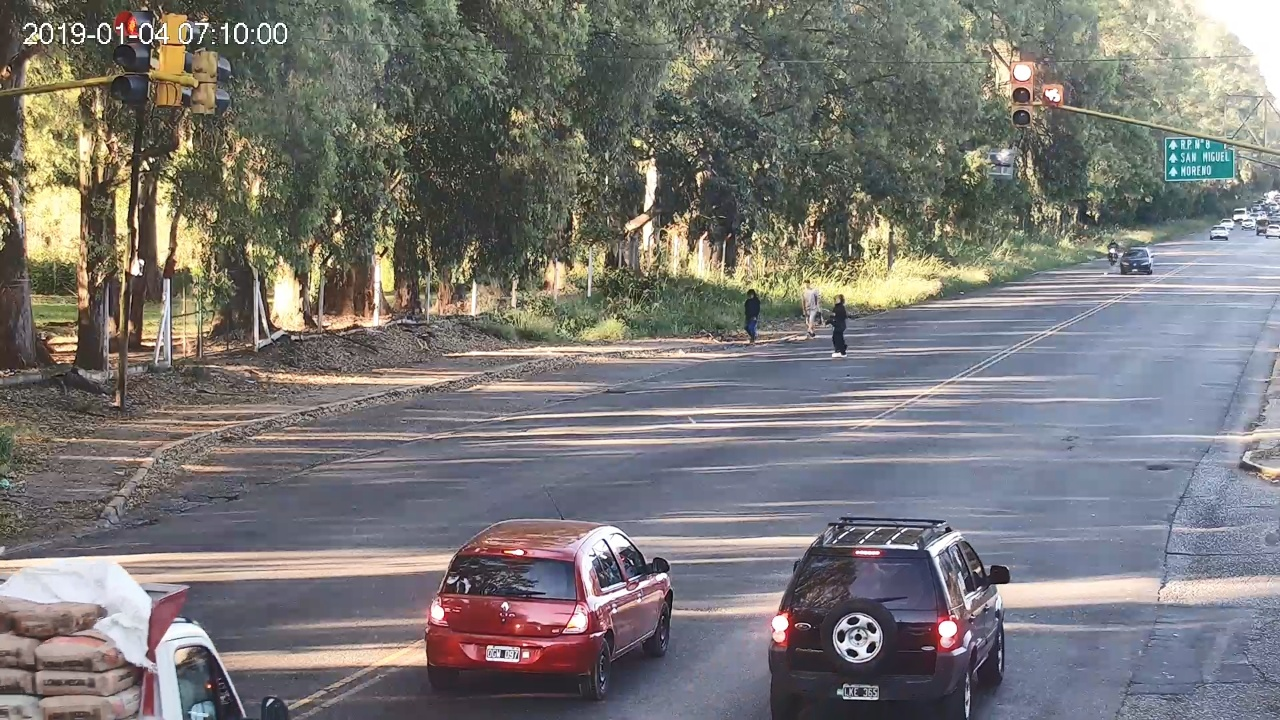car: (769, 515, 1011, 720), (427, 519, 673, 698)
traffic light: (1011, 61, 1032, 128)
